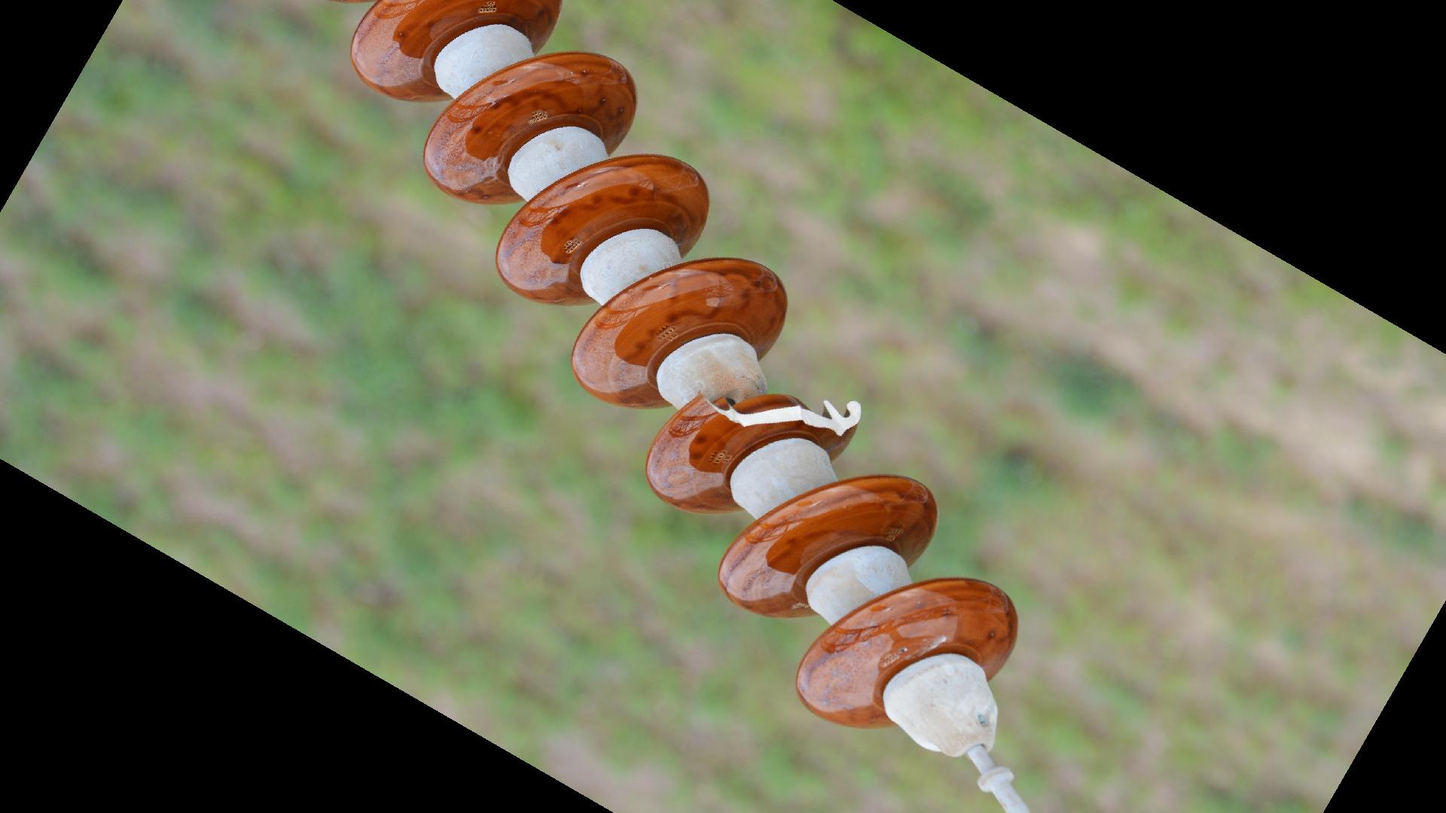insulator: (341, 1, 1024, 738)
insulator_breakage: (690, 388, 869, 446)
